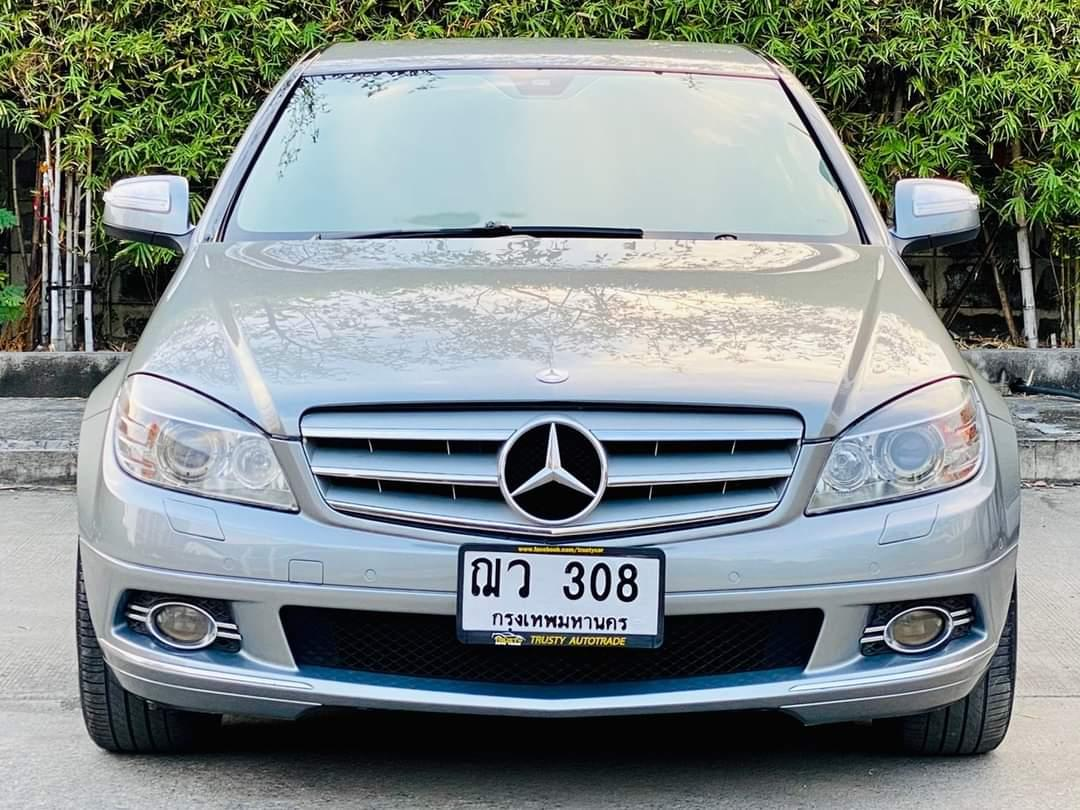license-plate: (454, 542, 667, 649)
